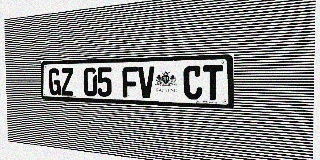0: (83, 67, 97, 96)
5: (97, 67, 112, 97)
C: (183, 65, 202, 100)
F: (122, 67, 138, 98)
G: (48, 68, 61, 95)
T: (203, 65, 223, 100)
V: (138, 66, 155, 98)
Z: (61, 68, 73, 96)
